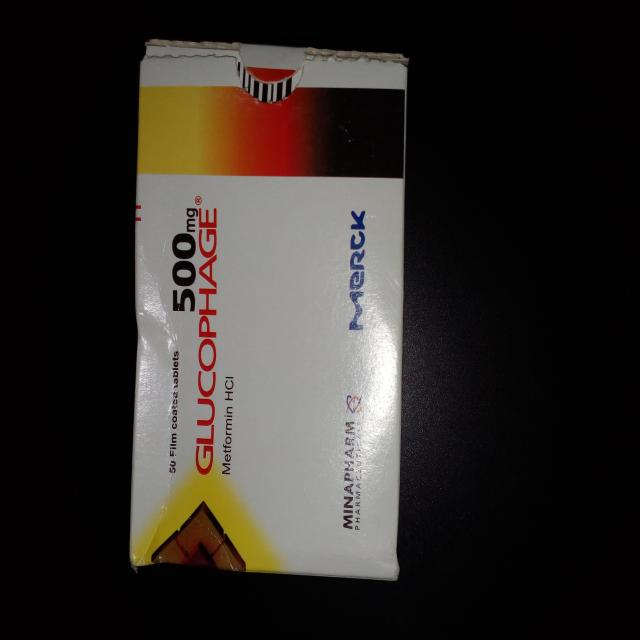Medicine: (128, 30, 404, 583)
